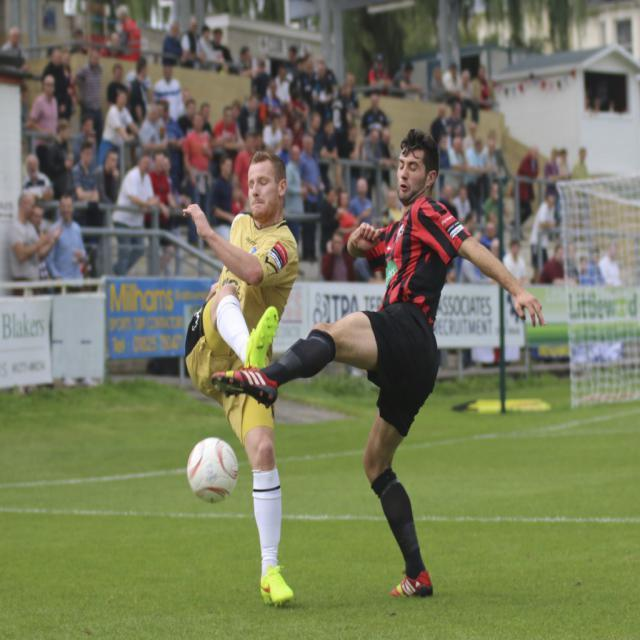football: (176, 435, 252, 509)
